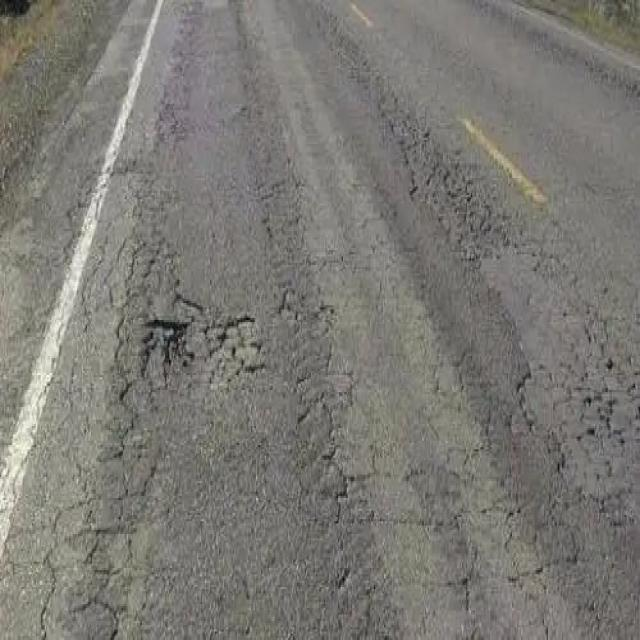Pothole: (137, 303, 260, 390)
